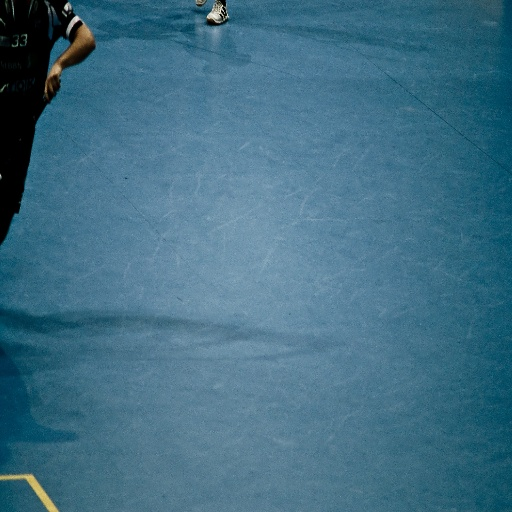hand: (34, 28, 85, 89)
